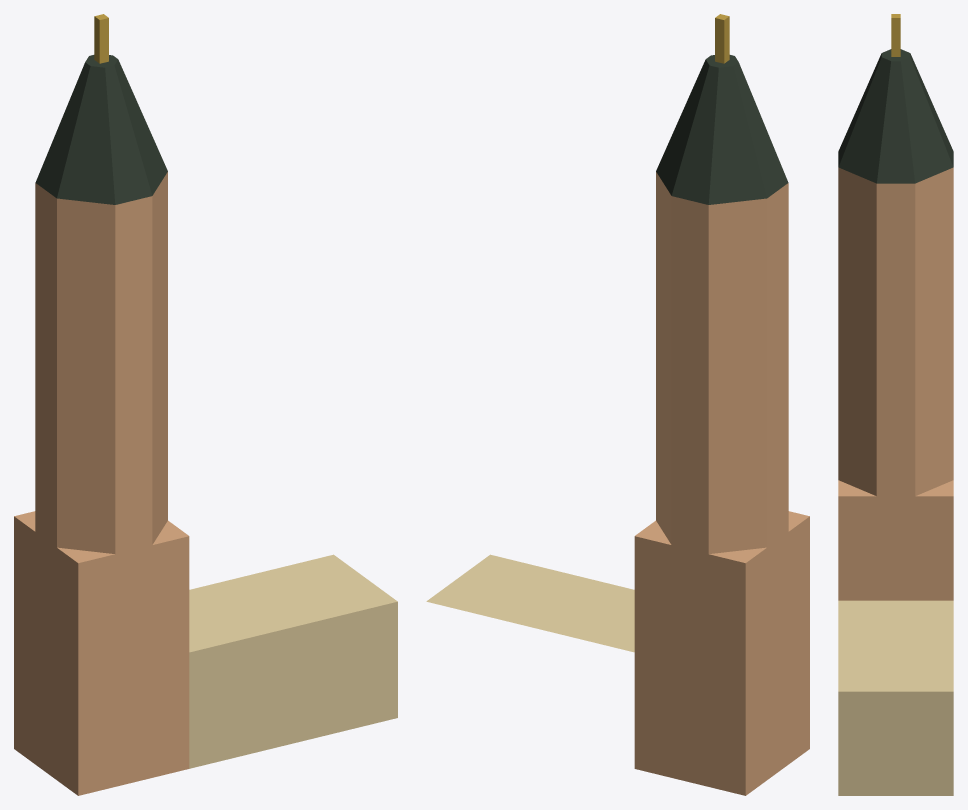
File: tower.glb
3 views of the same model, side by side, from view 1: azimuth 30°, elevation 25°; view 2: azimuth 150°, elevation 25°; view 3: azimuth 270°, elevation 25° (orthographic). The views are drawn at different scales.
Parts seen in each view (by area): view 1: Plane; view 2: Plane; view 3: Plane.
Part boxes in pixels (x1=…): Plane: x1=14, y1=14, x2=397, y2=795; Plane: x1=426, y1=14, x2=809, y2=795; Plane: x1=838, y1=14, x2=953, y2=795.
Size of the model in its own units: 23 by 51 by 8.
